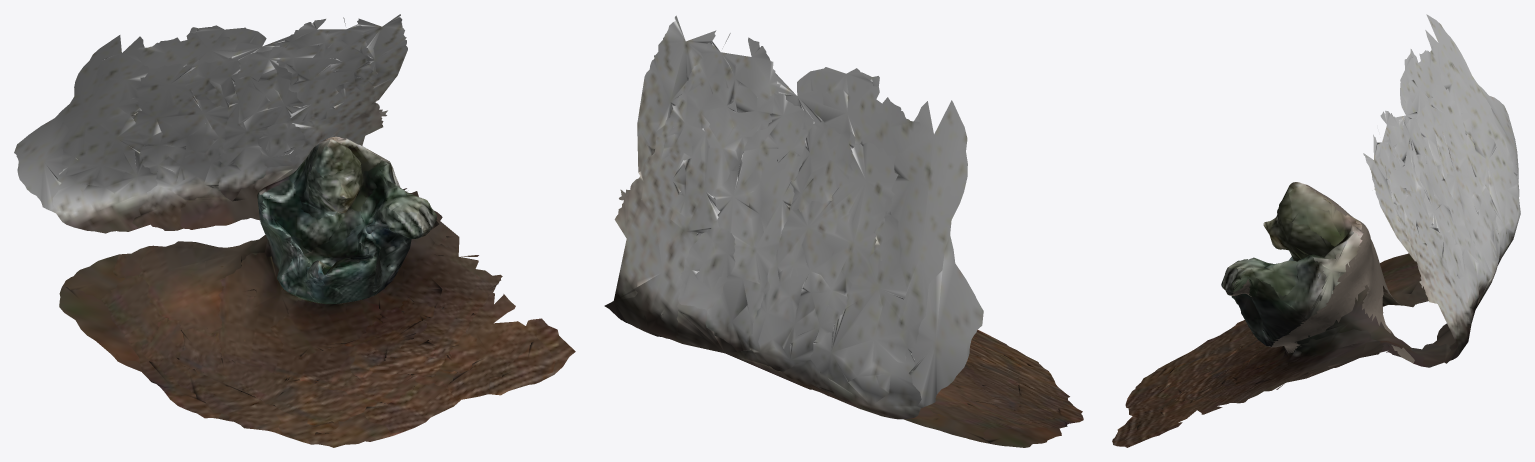
File: dumpy ori.obj
3 views of the same model, side by side, from view 1: azimuth 30°, elevation 25°; view 2: azimuth 150°, elevation 25°; view 3: azimuth 270°, elevation 25° (orthographic). The views are drawn at different scales.
Size of the model in its own units: 36.57 by 30.8 by 34.69.
Materials: 1 (1 with a texture image).
